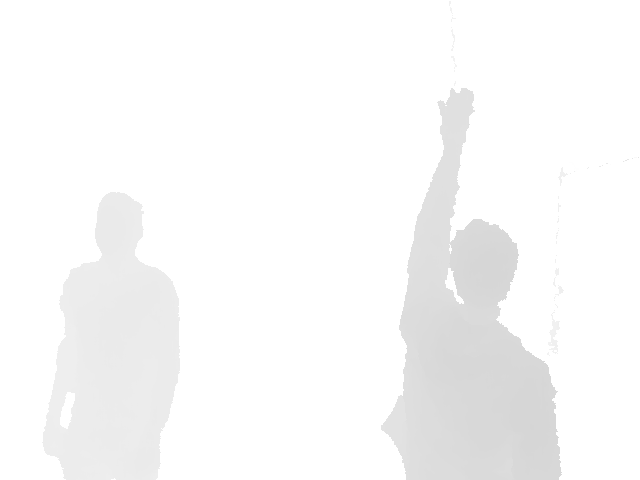hand: (436, 87, 475, 156)
head: (450, 218, 519, 317), (94, 190, 145, 264)
person: (378, 87, 562, 479), (41, 189, 183, 480)
